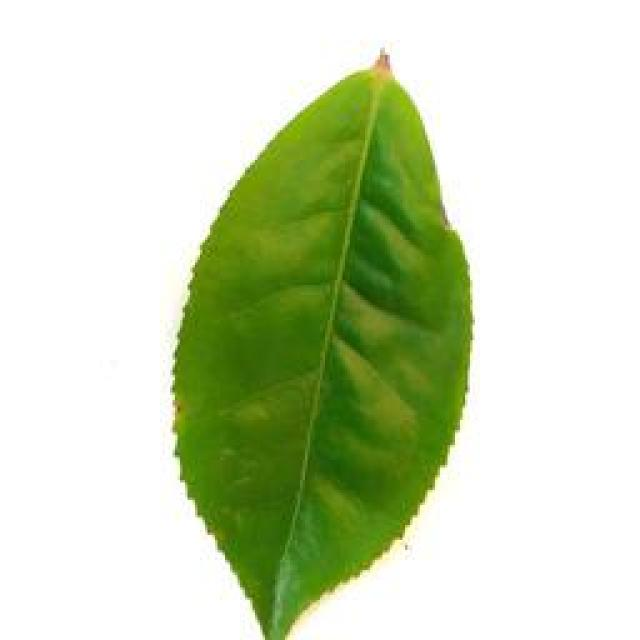Healthy: (158, 35, 478, 640)
